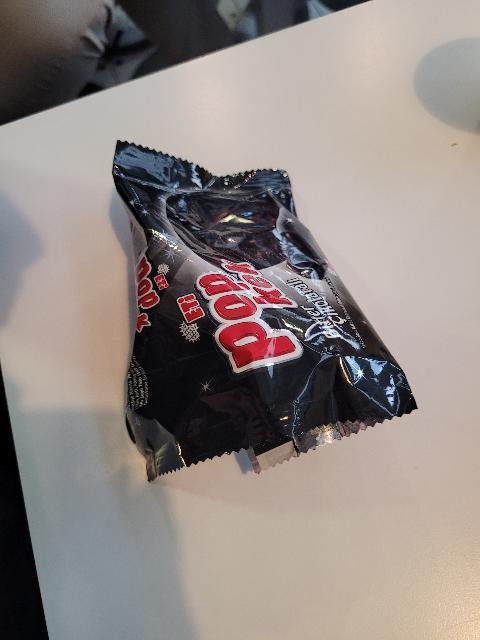Plastik: (108, 140, 428, 486)
